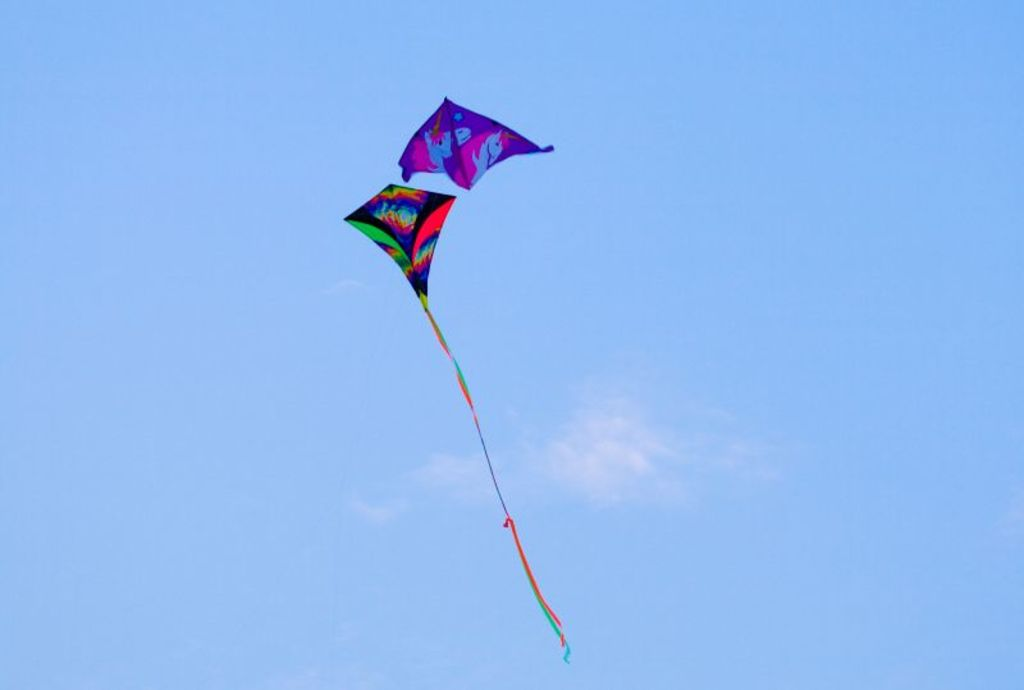kite: (344, 186, 576, 664), (397, 95, 562, 190)
